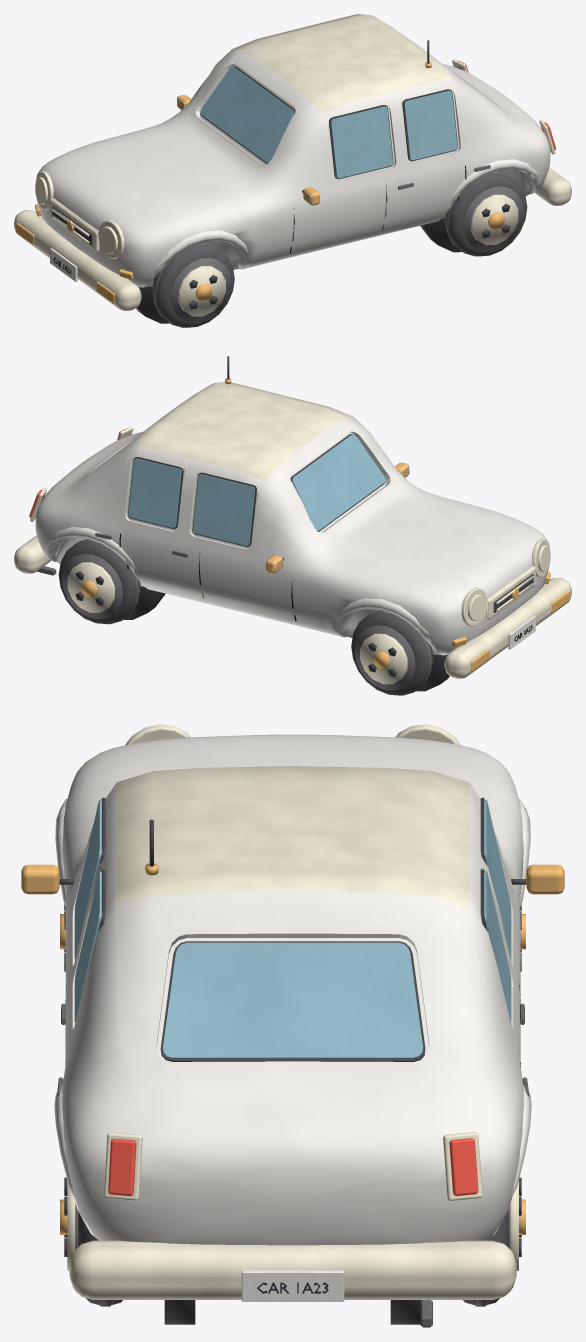
File: Transito_CarWhite.fbx
3 renders of one model, top to bottom at view 1: azimuth 30°, elevation 25°; view 2: azimuth 150°, elevation 25°; view 3: azimuth 270°, elevation 25°, orthographic. The views are drawn at different scales.
Visible parts, largest first — view 1: Transito_CarWhite; view 2: Transito_CarWhite; view 3: Transito_CarWhite.
Boxes of the visible parts, x1,y1,x2,y2 form: Transito_CarWhite: [14, 14, 571, 327]; Transito_CarWhite: [14, 356, 571, 695]; Transito_CarWhite: [21, 724, 564, 1327].
Bounding box in the file's own units: 4.15 × 1.93 × 2.12.
1 material, 1 textured.
